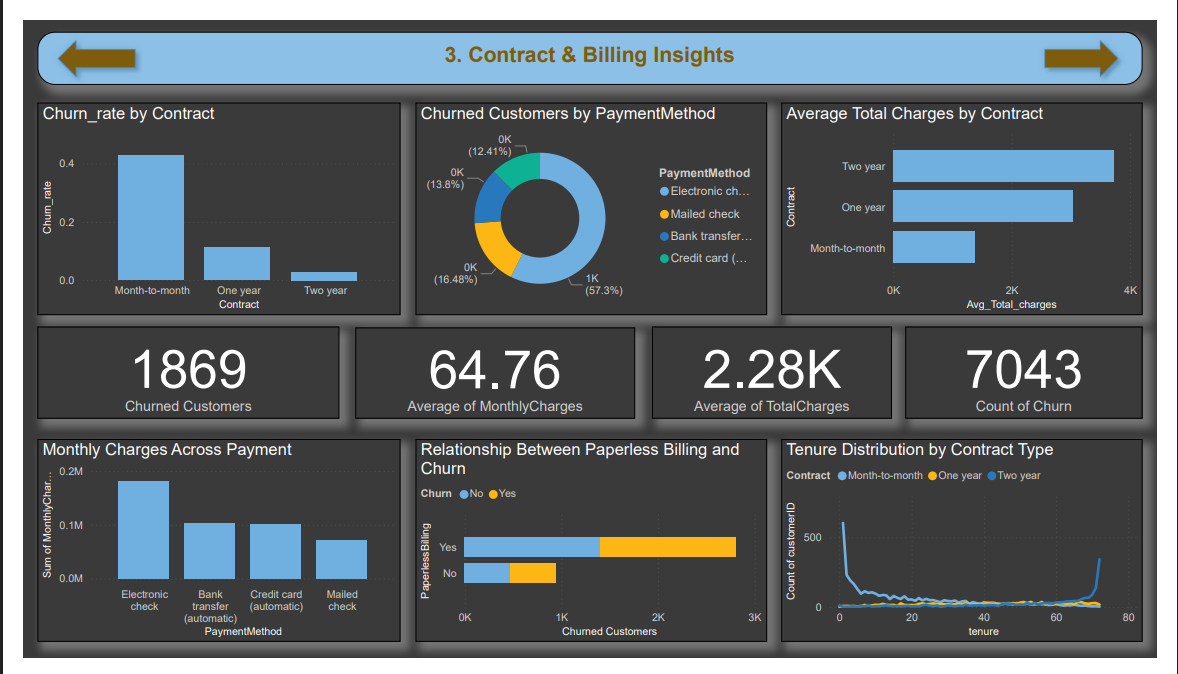

Layout of this report page (visuals, bound fields, positions):
{"tool":"powerbi","page":{"name":"Page 3","canvas":[1280,720],"ordinal":2},"visuals":[{"type":"textbox","box":[16.4,12.6,1247.2,60.5],"z":0},{"type":"clusteredColumnChart","fields":{"Y":["cca data set.Churn_rate"],"Category":["cca data set.Contract"]},"box":[16.4,93.3,409.9,239.6],"z":1000},{"type":"donutChart","fields":{"Category":["cca data set.PaymentMethod"],"Y":["cca data set.Churned Customers"]},"box":[442.6,93.3,397.2,239.6],"z":2000},{"type":"barChart","title":"Average Total Charges by Contract","fields":{"Category":["cca data set.Contract"],"Y":["cca data set.Avg_Total_charges"]},"box":[856.3,93.3,407.3,239.6],"z":3000},{"type":"clusteredColumnChart","title":"Monthly Charges Across Payment","fields":{"Category":["cca data set.PaymentMethod"],"Y":["Sum(cca data set.MonthlyCharges)"]},"box":[16.4,472.9,409.9,229.5],"z":4000},{"type":"barChart","title":"Relationship Between Paperless Billing and Churn","fields":{"Category":["cca data set.PaperlessBilling"],"Y":["cca data set.Churned Customers"],"Series":["cca data set.Churn"]},"box":[442.6,472.9,397.2,229.5],"z":5000},{"type":"lineChart","title":"Tenure Distribution by Contract Type","fields":{"Category":["cca data set.tenure"],"Y":["CountNonNull(cca data set.customerID)"],"Series":["cca data set.Contract"]},"box":[856.3,472.9,407.3,229.5],"z":6000},{"type":"card","fields":{"Values":["Avg(cca data set.TotalCharges)"]},"box":[710,345.5,271.1,104.7],"z":7000},{"type":"card","fields":{"Values":["Avg(cca data set.MonthlyCharges)"]},"box":[374.5,346.8,316.5,103.4],"z":8000},{"type":"card","fields":{"Values":["CountNonNull(cca data set.Churn)"]},"box":[996.3,345.5,267.3,104.7],"z":9000},{"type":"card","fields":{"Values":["cca data set.Churned Customers"]},"box":[16.4,345.5,340.5,104.7],"z":10000},{"type":"shape","box":[30.3,12.6,104.7,60.5],"z":11000},{"type":"shape","box":[1145.1,12.6,100.9,60.5],"z":12000}]}

Visuals, with their boxes in screenshot pixels (x1, y1, x2, y2), scaled from the page's 1280x720 canvas onto the 1178x674 screenshot:
textbox: bbox=(15, 12, 1163, 68)
clusteredColumnChart - cca data set.Churn_rate x cca data set.Contract: bbox=(15, 87, 392, 312)
donutChart - cca data set.PaymentMethod x cca data set.Churned Customers: bbox=(407, 87, 773, 312)
"Average Total Charges by Contract" barChart: bbox=(788, 87, 1163, 312)
"Monthly Charges Across Payment" clusteredColumnChart: bbox=(15, 443, 392, 658)
"Relationship Between Paperless Billing and Churn" barChart: bbox=(407, 443, 773, 658)
"Tenure Distribution by Contract Type" lineChart: bbox=(788, 443, 1163, 658)
card - Avg(cca data set.TotalCharges): bbox=(653, 323, 903, 421)
card - Avg(cca data set.MonthlyCharges): bbox=(345, 325, 636, 421)
card - CountNonNull(cca data set.Churn): bbox=(917, 323, 1163, 421)
card - cca data set.Churned Customers: bbox=(15, 323, 328, 421)
shape: bbox=(28, 12, 124, 68)
shape: bbox=(1054, 12, 1147, 68)
